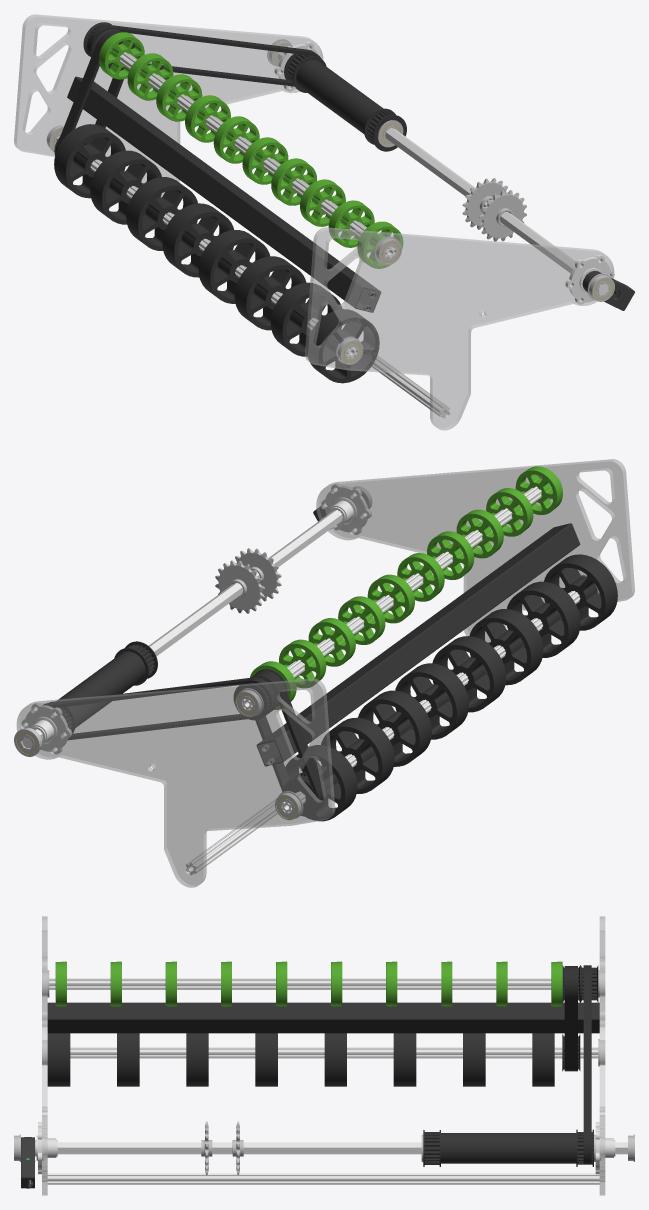
The picture shows the model from 3 angles, top to bottom: view 1: azimuth 30°, elevation 25°; view 2: azimuth 150°, elevation 25°; view 3: azimuth 270°, elevation 25°; orthographic projection. The views are drawn at different scales.
Parts seen in each view (by area): view 1: Part 1 (×2), 3" Thrifty Squish Wheel (45A, 1" Wide, 1/2" Hex Bore) (×8), 2" Compliant Wheel (35A, 3/4" Wide, 1/2" Hex Stretch Bore) (×10), CF 1"x1" Box Tube, 25,0" Length (WCP), 24t Custom HTD 5mm Pulley (0.669" Wide, 1/2" Hex Bore w/ TTB (×2), 1/2" Hex (27.5" L, 7075 Aluminum), 1/2" Churro (25" L, 6061 Aluminum) (×2), 18t Steel Sprocket (#35, 1/2" Hex Bore, Double Hub) (×2), 130T 5M 9mm Wide Belt, 72T 5M 15mm Wide Belt, 1/2" Churro (24.5" L, 6061 Aluminum), 1/2" Hex Hub (0.875" OD, 1.875" Bolt Circle) (+1 smaller); view 2: Part 1 (×2), 3" Thrifty Squish Wheel (45A, 1" Wide, 1/2" Hex Bore) (×8), 2" Compliant Wheel (35A, 3/4" Wide, 1/2" Hex Stretch Bore) (×10), CF 1"x1" Box Tube, 25,0" Length (WCP), 24t Custom HTD 5mm Pulley (0.669" Wide, 1/2" Hex Bore w/ TTB (×3), 1/2" Hex Hub (0.875" OD, 1.875" Bolt Circle) (×2), 1/2" Churro (25" L, 6061 Aluminum) (×2), 1/2" Hex (27.5" L, 7075 Aluminum), 130T 5M 9mm Wide Belt, 18t Steel Sprocket (#35, 1/2" Hex Bore, Double Hub) (×2), 72T 5M 15mm Wide Belt, 1/2" Churro (24.5" L, 6061 Aluminum); view 3: CF 1"x1" Box Tube, 25,0" Length (WCP), 3" Thrifty Squish Wheel (45A, 1" Wide, 1/2" Hex Bore) (×8), 1/2" Churro (25" L, 6061 Aluminum) (×2), 1/2" Churro (24.5" L, 6061 Aluminum), 24t Custom HTD 5mm Pulley (0.669" Wide, 1/2" Hex Bore w/ TTB (×3), 2" Compliant Wheel (35A, 3/4" Wide, 1/2" Hex Stretch Bore) (×10), 1/2" Hex (27.5" L, 7075 Aluminum), Part 1 (×2), 130T 5M 9mm Wide Belt, 72T 5M 15mm Wide Belt, 1/2" Hex Hub (0.875" OD, 1.875" Bolt Circle) (×2), WCP Through Bore Encoder.
Part boxes in pixels (<box>): Part 1 (×2): <box>14,14,614,430</box>; 3" Thrifty Squish Wheel (45A, 1" Wide, 1/2" Hex Bore) (×8): <box>54,124,379,383</box>; 2" Compliant Wheel (35A, 3/4" Wide, 1/2" Hex Stretch Bore) (×10): <box>98,32,402,268</box>; CF 1"x1" Box Tube, 25,0" Length (WCP): <box>67,76,380,312</box>; 24t Custom HTD 5mm Pulley (0.669" Wide, 1/2" Hex Bore w/ TTB (×2): <box>284,54,406,151</box>; 1/2" Hex (27.5" L, 7075 Aluminum): <box>277,52,608,295</box>; 1/2" Churro (25" L, 6061 Aluminum) (×2): <box>56,50,395,358</box>; 18t Steel Sprocket (#35, 1/2" Hex Bore, Double Hub) (×2): <box>462,178,526,241</box>; 130T 5M 9mm Wide Belt: <box>87,24,321,86</box>; 72T 5M 15mm Wide Belt: <box>55,30,123,152</box>; 1/2" Churro (24.5" L, 6061 Aluminum): <box>160,197,449,418</box>; 1/2" Hex Hub (0.875" OD, 1.875" Bolt Circle): <box>565,254,614,304</box>; Part 1 (×2): <box>16,459,634,887</box>; 3" Thrifty Squish Wheel (45A, 1" Wide, 1/2" Hex Bore) (×8): <box>285,554,617,821</box>; 2" Compliant Wheel (35A, 3/4" Wide, 1/2" Hex Stretch Bore) (×10): <box>250,466,562,709</box>; CF 1"x1" Box Tube, 25,0" Length (WCP): <box>256,523,580,766</box>; 24t Custom HTD 5mm Pulley (0.669" Wide, 1/2" Hex Bore w/ TTB (×3): <box>49,641,326,815</box>; 1/2" Hex Hub (0.875" OD, 1.875" Bolt Circle) (×2): <box>21,483,371,754</box>; 1/2" Churro (25" L, 6061 Aluminum) (×2): <box>242,484,580,813</box>; 1/2" Hex (27.5" L, 7075 Aluminum): <box>22,510,342,748</box>; 130T 5M 9mm Wide Belt: <box>43,677,275,739</box>; 18t Steel Sprocket (#35, 1/2" Hex Bore, Double Hub) (×2): <box>215,548,281,613</box>; 72T 5M 15mm Wide Belt: <box>253,670,325,810</box>; 1/2" Churro (24.5" L, 6061 Aluminum): <box>186,656,470,875</box>; CF 1"x1" Box Tube, 25,0" Length (WCP): <box>47,1002,599,1033</box>; 3" Thrifty Squish Wheel (45A, 1" Wide, 1/2" Hex Bore) (×8): <box>47,1033,554,1086</box>; 1/2" Churro (25" L, 6061 Aluminum) (×2): <box>49,978,598,1058</box>; 1/2" Churro (24.5" L, 6061 Aluminum): <box>47,1173,599,1184</box>; 24t Custom HTD 5mm Pulley (0.669" Wide, 1/2" Hex Bore w/ TTB (×3): <box>423,965,598,1166</box>; 2" Compliant Wheel (35A, 3/4" Wide, 1/2" Hex Stretch Bore) (×10): <box>55,961,562,1006</box>; 1/2" Hex (27.5" L, 7075 Aluminum): <box>57,1142,627,1154</box>; Part 1 (×2): <box>42,916,605,1195</box>; 130T 5M 9mm Wide Belt: <box>583,965,591,1164</box>; 72T 5M 15mm Wide Belt: <box>564,966,577,1071</box>; 1/2" Hex Hub (0.875" OD, 1.875" Bolt Circle) (×2): <box>35,1122,615,1174</box>; WCP Through Bore Encoder: <box>21,1137,35,1188</box>.
Bounding box in the file's own units: 0.3947 × 0.2741 × 0.7001.
